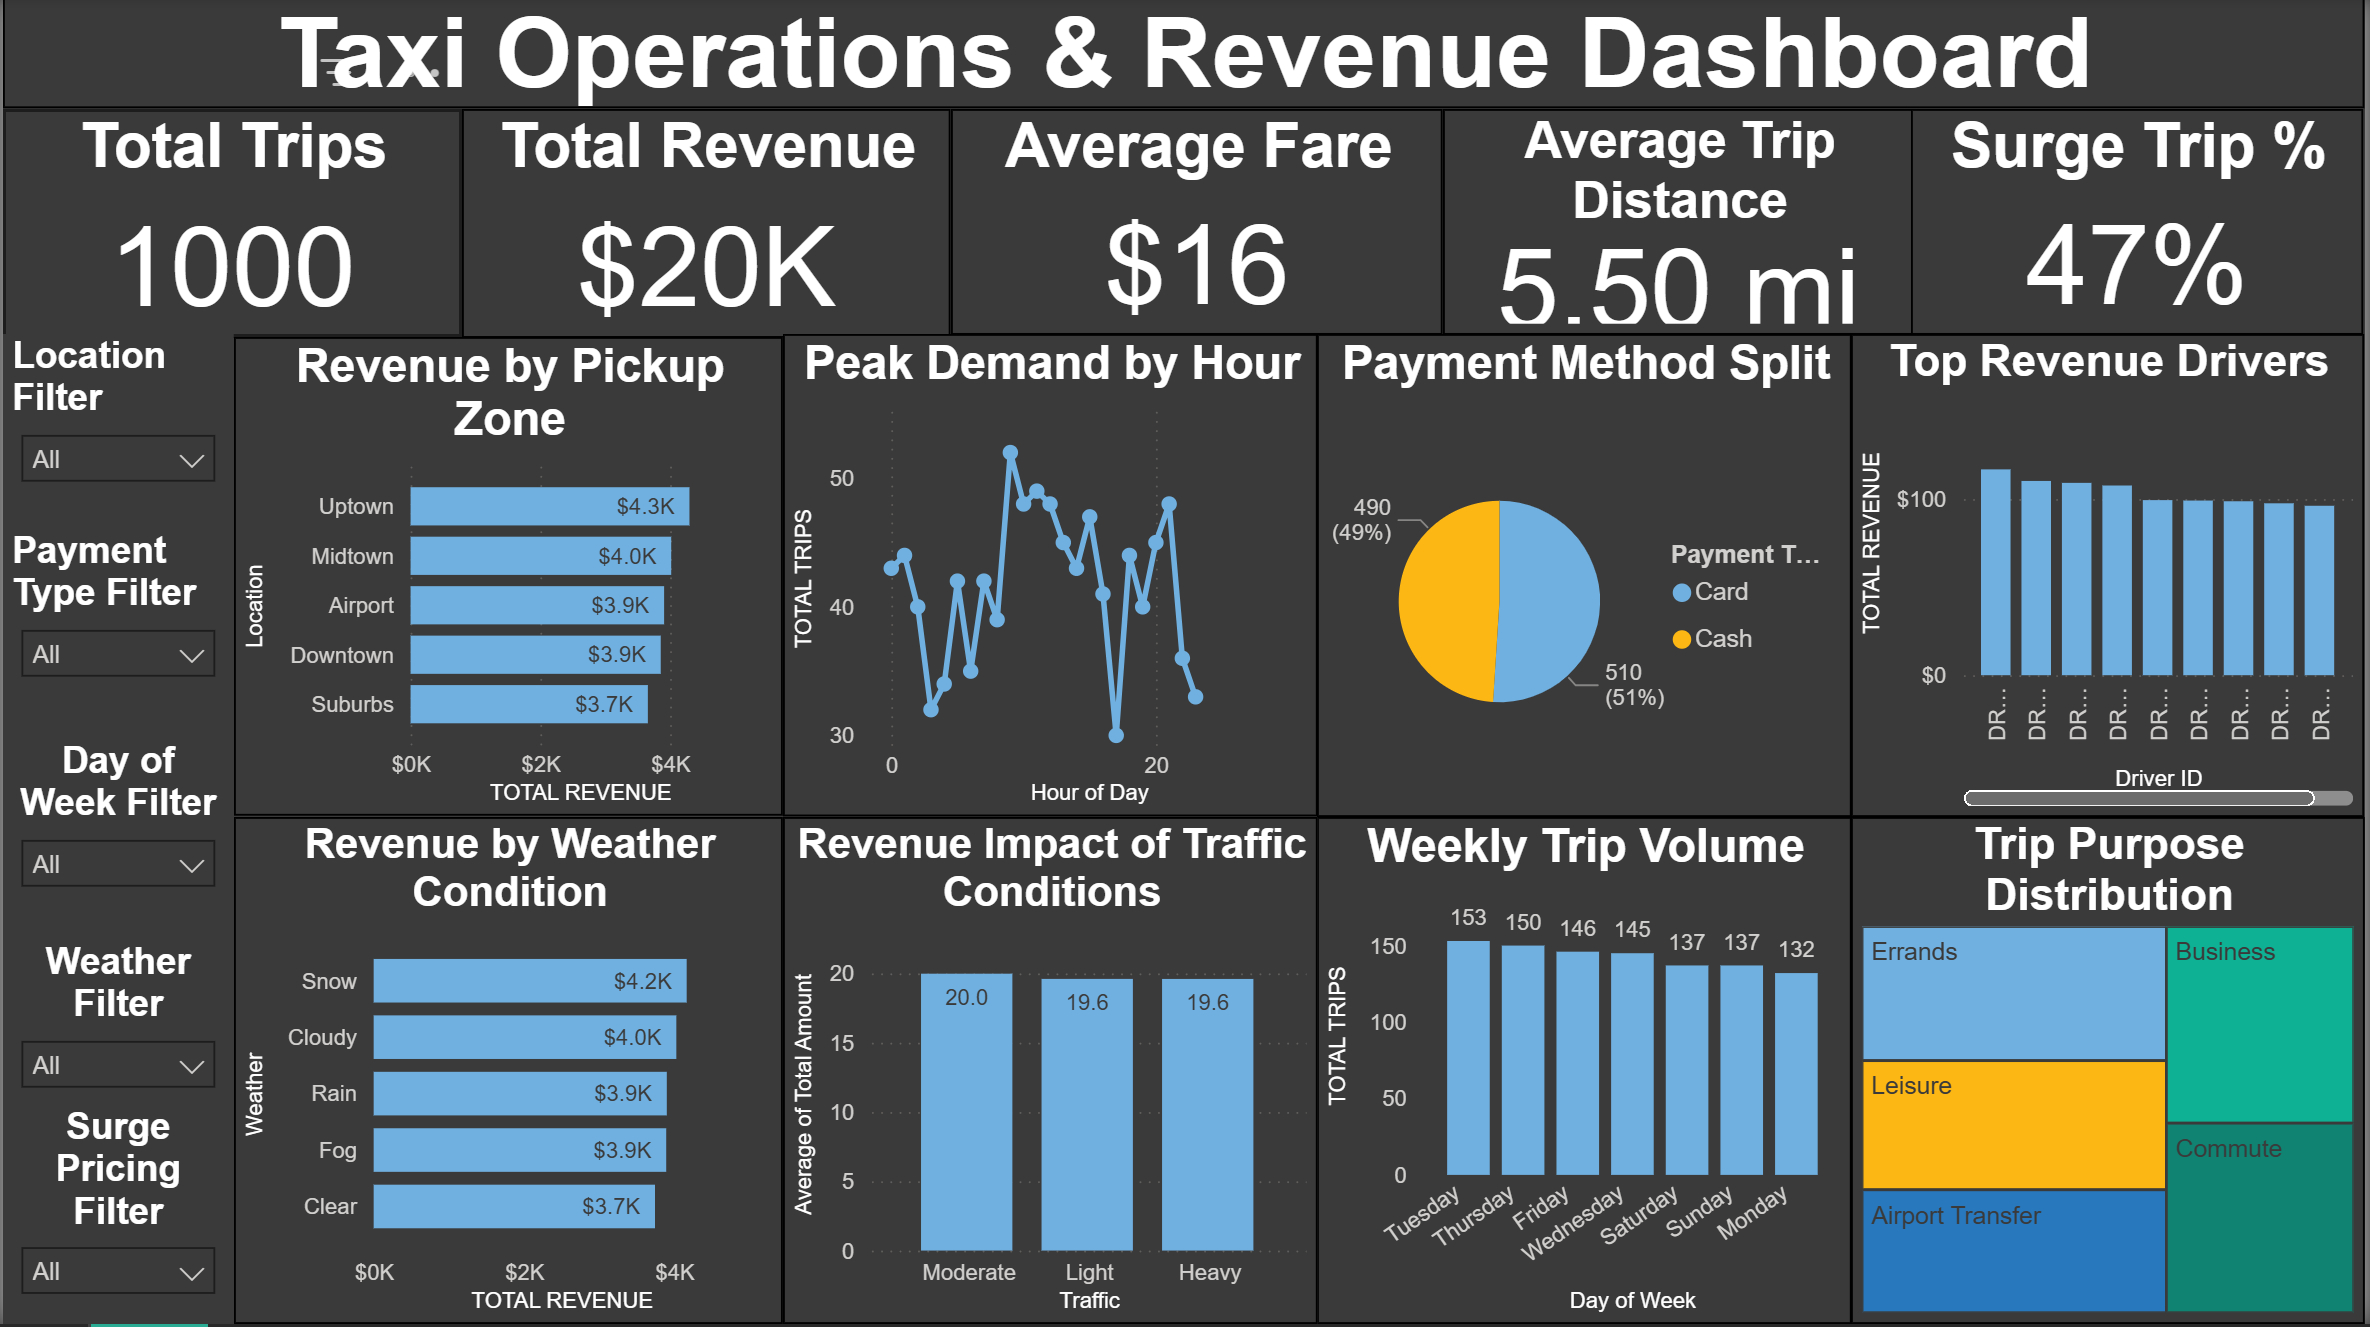

This screenshot's page, from the dashboard's own definition file:
{"tool":"powerbi","page":{"name":"Page 1","canvas":[1280,720],"ordinal":0},"visuals":[{"type":"card","title":"Total Trips","fields":{"Values":["TAXI.TOTAL TRIPS"]},"box":[0,61.2,248.3,124.1],"z":0},{"type":"card","title":"Total Revenue","fields":{"Values":["TAXI.TOTAL REVENUE"]},"box":[248.3,61.2,264.8,124.1],"z":1000},{"type":"card","title":"Average Fare","fields":{"Values":["TAXI.AVERAGE FARE"]},"box":[513.1,61.2,266.5,122.5],"z":2000},{"type":"card","title":"Average Trip Distance","fields":{"Values":["TAXI.AVERAGE TRIP DISTANCE"]},"box":[779.6,61.2,254.9,122.5],"z":3000},{"type":"card","title":"Surge Trip %","fields":{"Values":["TAXI.SURGE TRIP %"]},"box":[1035.3,61.8,243.8,121.9],"z":4000},{"type":"lineChart","title":"Peak Demand by Hour","fields":{"Category":["TAXI.Hour of Day"],"Y":["TAXI.TOTAL TRIPS"]},"box":[422.2,183.7,289.7,261.3],"z":5000},{"type":"barChart","title":"Revenue by Pickup Zone","fields":{"Y":["TAXI.TOTAL REVENUE"],"Category":["TAXI.Location"]},"box":[125,185.6,297.3,259.4],"z":6000},{"type":"pieChart","title":"Payment Method Split","fields":{"Category":["TAXI.Payment Type"],"Y":["CountNonNull(TAXI.Payment Type)"]},"box":[711.7,183.7,289.7,261.5],"z":7000},{"type":"clusteredColumnChart","title":"Weekly Trip Volume","fields":{"Y":["TAXI.TOTAL TRIPS"],"Category":["TAXI.Day of Week"]},"box":[712,445,289.7,274.6],"z":8000},{"type":"barChart","title":"Revenue by Weather Condition","fields":{"Y":["TAXI.TOTAL REVENUE"],"Category":["TAXI.Weather"]},"box":[125,445,297.3,274.6],"z":9000},{"type":"columnChart","title":"Top Revenue Drivers","fields":{"Category":["TAXI.Driver ID"],"Y":["TAXI.TOTAL REVENUE"]},"box":[1001.4,183.7,278.1,261.5],"z":10000},{"type":"clusteredColumnChart","title":"Revenue Impact of Traffic Conditions","fields":{"Category":["TAXI.Traffic"],"Y":["Avg(TAXI.Total Amount)"]},"box":[422.2,445,289.7,274.6],"z":11000},{"type":"treemap","title":"Trip Purpose Distribution","fields":{"Group":["TAXI.Trip Purpose"],"Values":["TAXI.TOTAL TRIPS"]},"box":[1001.7,445,278.3,274.6],"z":12000},{"type":"slicer","title":"Location Filter","fields":{"Values":["TAXI.Location"]},"box":[0,183.7,125,109.8],"z":12001},{"type":"slicer","title":"Payment Type Filter","fields":{"Values":["TAXI.Payment Type"]},"box":[0,289.7,125,113.6],"z":12002},{"type":"slicer","title":"Day of Week Filter","fields":{"Values":["TAXI.Day of Week"]},"box":[0,403.3,125,107.9],"z":12003},{"type":"slicer","title":"Weather Filter","fields":{"Values":["TAXI.Weather"]},"box":[0,511.2,125,90.9],"z":12004},{"type":"slicer","title":"Surge Pricing Filter","fields":{"Values":["TAXI.Surge Pricing"]},"box":[0,602.1,125,117.4],"z":12005},{"type":"shape","title":"Taxi Operations & Revenue Dashboard","box":[0,0,1279.4,61.2],"z":12006}]}

Visuals, with their boxes in screenshot pixels (x1, y1, x2, y2), scaled from the page's 1280x720 canvas onto the 2370x1327 screenshot:
"Total Trips" card: box(0, 113, 460, 342)
"Total Revenue" card: box(460, 113, 950, 342)
"Average Fare" card: box(950, 113, 1443, 339)
"Average Trip Distance" card: box(1443, 113, 1915, 339)
"Surge Trip %" card: box(1917, 114, 2368, 339)
"Peak Demand by Hour" lineChart: box(782, 339, 1318, 820)
"Revenue by Pickup Zone" barChart: box(231, 342, 782, 820)
"Payment Method Split" pieChart: box(1318, 339, 1854, 821)
"Weekly Trip Volume" clusteredColumnChart: box(1318, 820, 1855, 1326)
"Revenue by Weather Condition" barChart: box(231, 820, 782, 1326)
"Top Revenue Drivers" columnChart: box(1854, 339, 2369, 821)
"Revenue Impact of Traffic Conditions" clusteredColumnChart: box(782, 820, 1318, 1326)
"Trip Purpose Distribution" treemap: box(1855, 820, 2369, 1326)
"Location Filter" slicer: box(0, 339, 231, 541)
"Payment Type Filter" slicer: box(0, 534, 231, 743)
"Day of Week Filter" slicer: box(0, 743, 231, 942)
"Weather Filter" slicer: box(0, 942, 231, 1110)
"Surge Pricing Filter" slicer: box(0, 1110, 231, 1326)
"Taxi Operations & Revenue Dashboard" shape: box(0, 0, 2369, 113)
